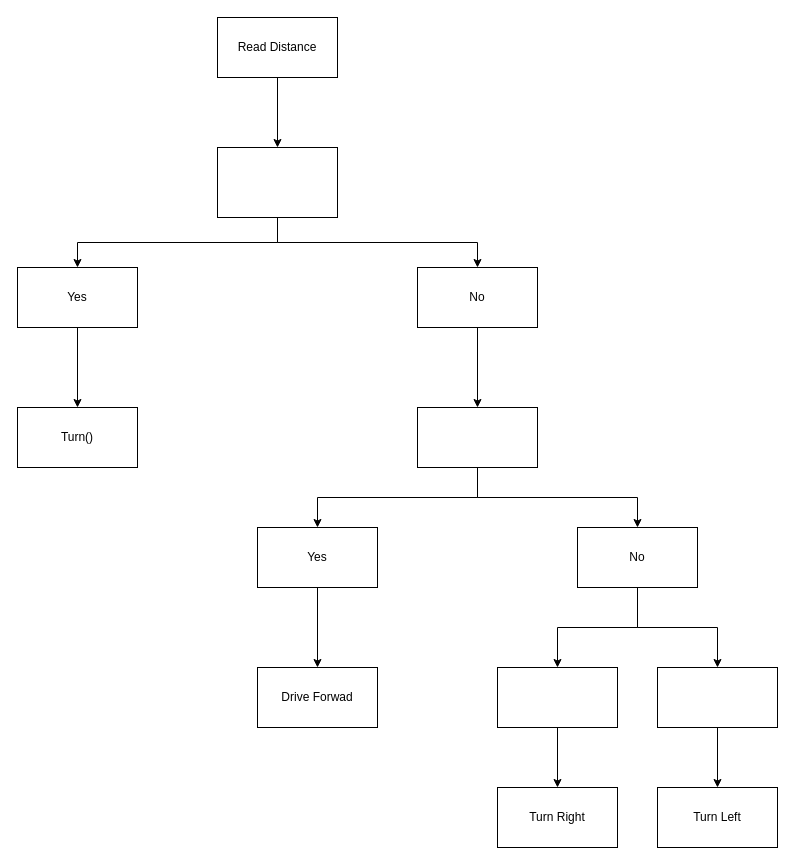
This 795x865 diagram has some shape labels left out. Here are the shapes that lost their labels. From the top down, the centre of each, then its label:
At point (277, 182): "Is distance Smaller than Target by 2?".
At point (477, 437): "Is Distance Within Tolerance?".
At point (557, 697): "Too Far?".
At point (717, 697): "Too Close?".
